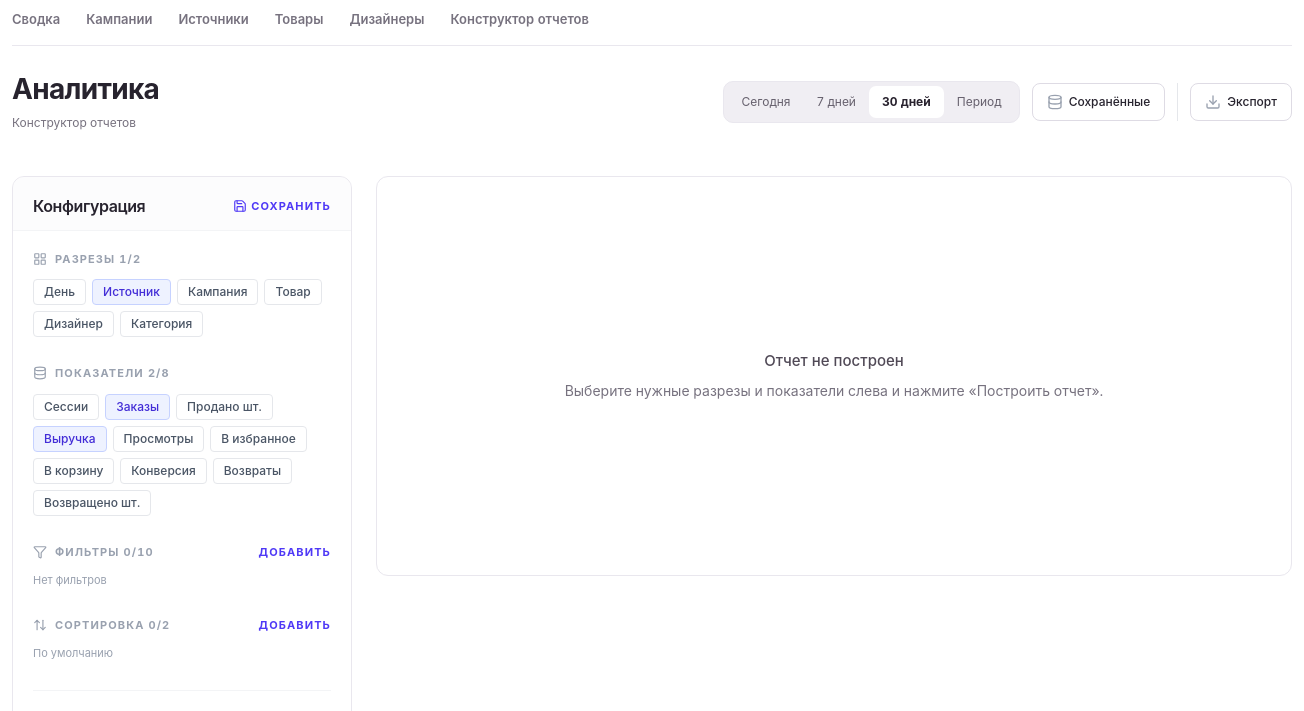
Test case: AdminMarketingQueryBuilderExport — M8B Behavioral Acceptance Suite › 32, 33: Loading state prevents second click and double submit
This screenshot has width=1304, height=711.
Click the button "Экспорт".
click(1241, 102)  # box [1190,83,1292,121]
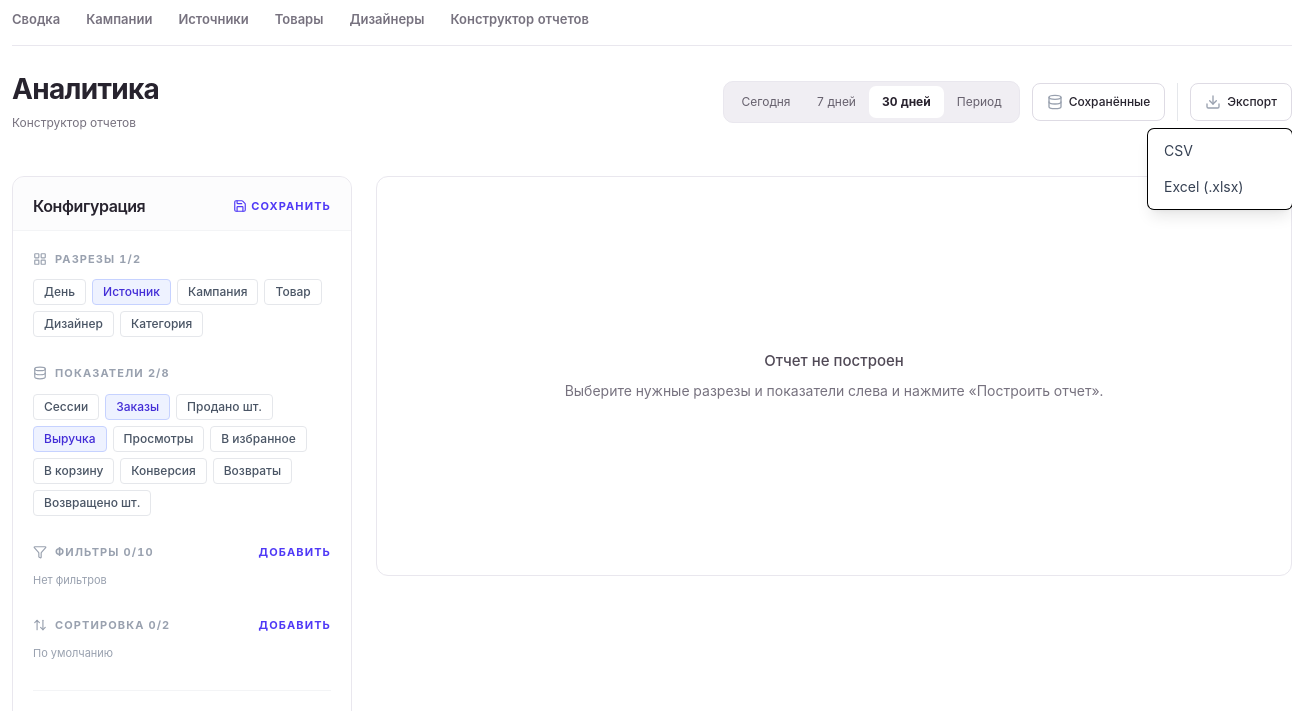
Click the menu item "CSV".
click(1220, 151)  # box [1148,133,1292,169]
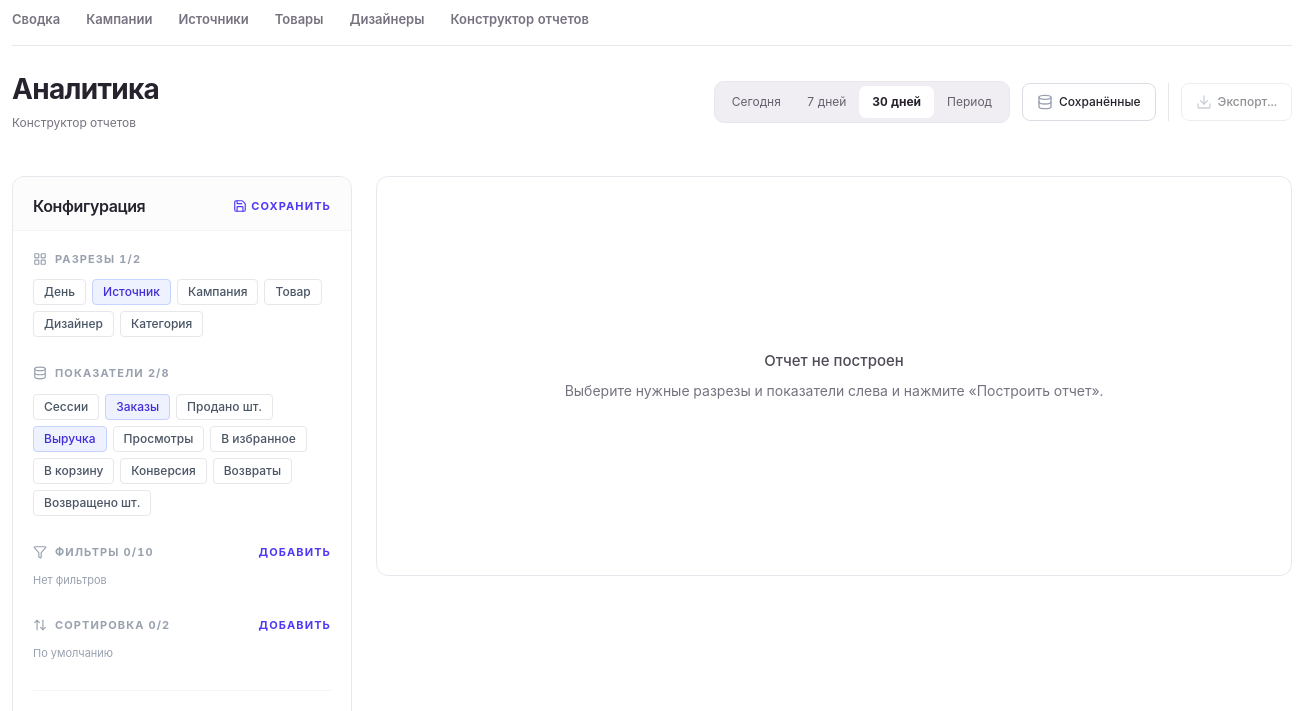
Check: the button "Экспорт..." is shown
Check: the button "Экспорт..." is disabled
32 & 33: Further clicks do not trigger another export
Click the button "Экспорт...".
click(1236, 102)  # box [1181,83,1292,121]
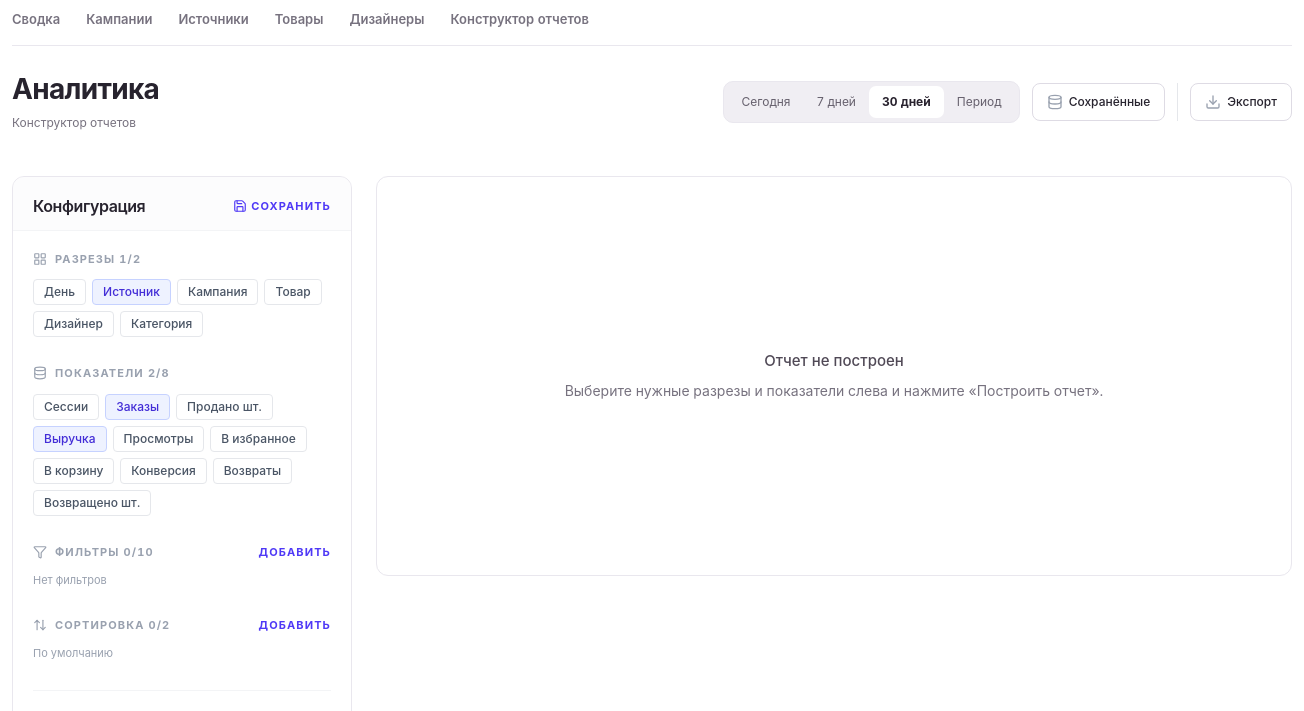
Check: the button "Экспорт" is shown, box [1190,83,1292,121]
